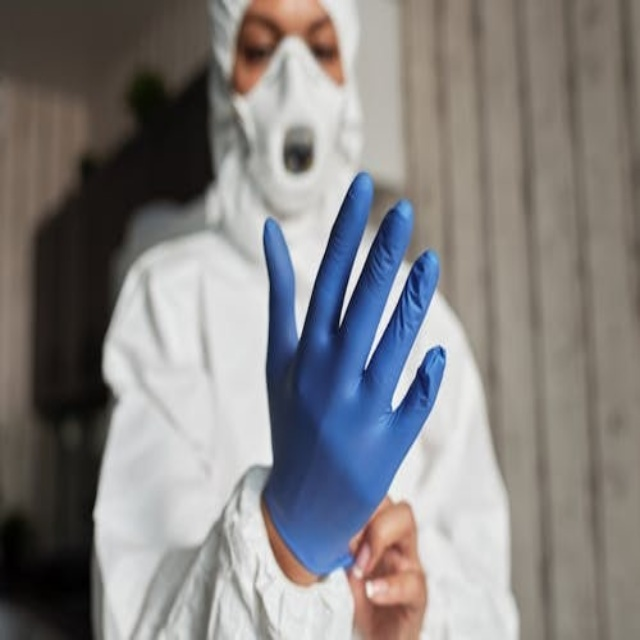Guantes: (259, 173, 445, 577)
Mascara: (231, 34, 351, 219)
Sin_guantes: (343, 496, 429, 640)
